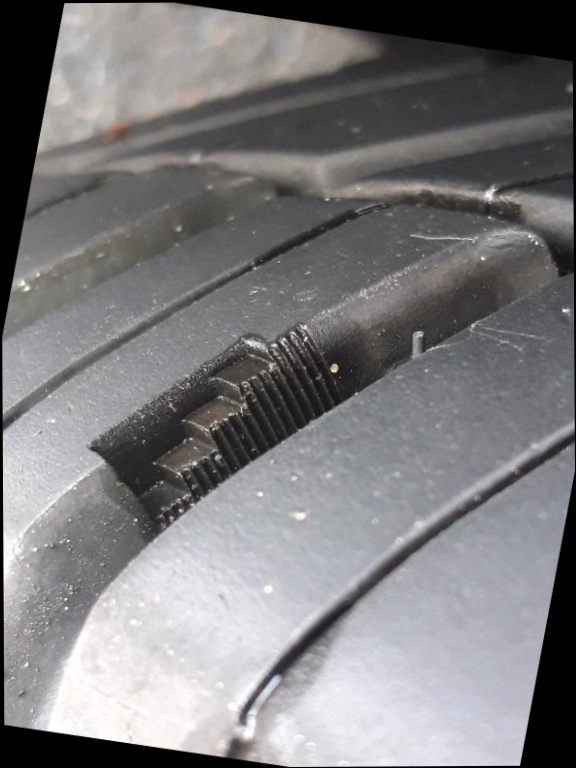temoin:90: (62, 286, 364, 572)
